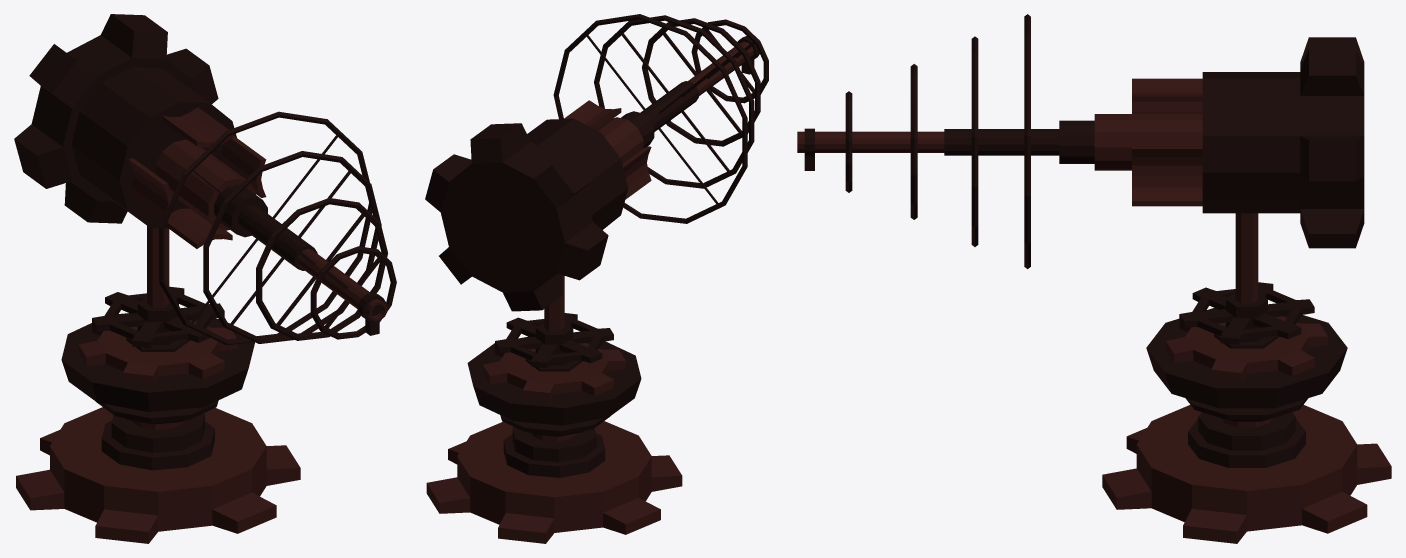
File: Laser_2.obj
3 views of the same model, side by side, from view 1: azimuth 30°, elevation 25°; view 2: azimuth 150°, elevation 25°; view 3: azimuth 270°, elevation 25° (orthographic). The views are drawn at different scales.
Parts seen in each view (by area): view 1: Laser_2_Gun_Cylinder.247, Laser_2_Base_Cylinder.002, Laser_2_Mid_Cylinder.246; view 2: Laser_2_Gun_Cylinder.247, Laser_2_Base_Cylinder.002, Laser_2_Mid_Cylinder.246; view 3: Laser_2_Gun_Cylinder.247, Laser_2_Base_Cylinder.002, Laser_2_Mid_Cylinder.246.
Part boxes in pixels (<box>): Laser_2_Gun_Cylinder.247: <box>14,14,396,345</box>; Laser_2_Base_Cylinder.002: <box>16,313,300,543</box>; Laser_2_Mid_Cylinder.246: <box>78,226,237,384</box>; Laser_2_Gun_Cylinder.247: <box>425,14,768,311</box>; Laser_2_Base_Cylinder.002: <box>426,336,682,543</box>; Laser_2_Mid_Cylinder.246: <box>483,275,625,400</box>; Laser_2_Gun_Cylinder.247: <box>797,14,1364,268</box>; Laser_2_Base_Cylinder.002: <box>1102,308,1391,543</box>; Laser_2_Mid_Cylinder.246: <box>1166,213,1327,381</box>.
Size of the model in its own units: 1.38 by 2.4 by 2.83.
